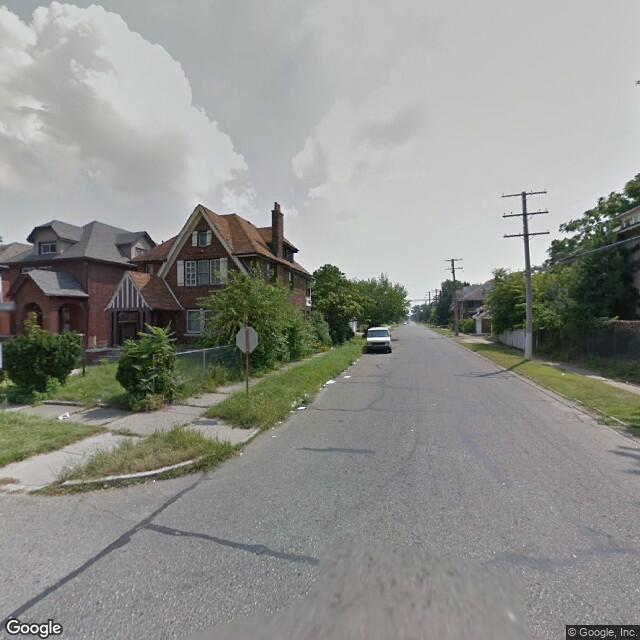litter: (56, 413, 75, 420), (296, 404, 310, 413), (148, 474, 159, 483), (324, 378, 336, 385), (101, 483, 113, 490), (238, 448, 248, 456), (351, 358, 361, 366), (273, 420, 285, 424), (343, 373, 349, 380)
